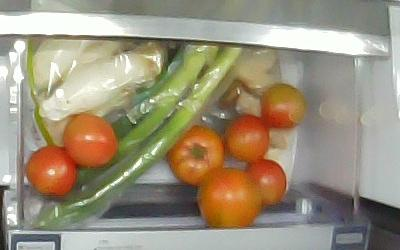tomato: (197, 168, 263, 226), (168, 124, 226, 184), (62, 114, 117, 168), (26, 145, 76, 197), (223, 114, 269, 161), (240, 159, 287, 205), (262, 84, 305, 129)
